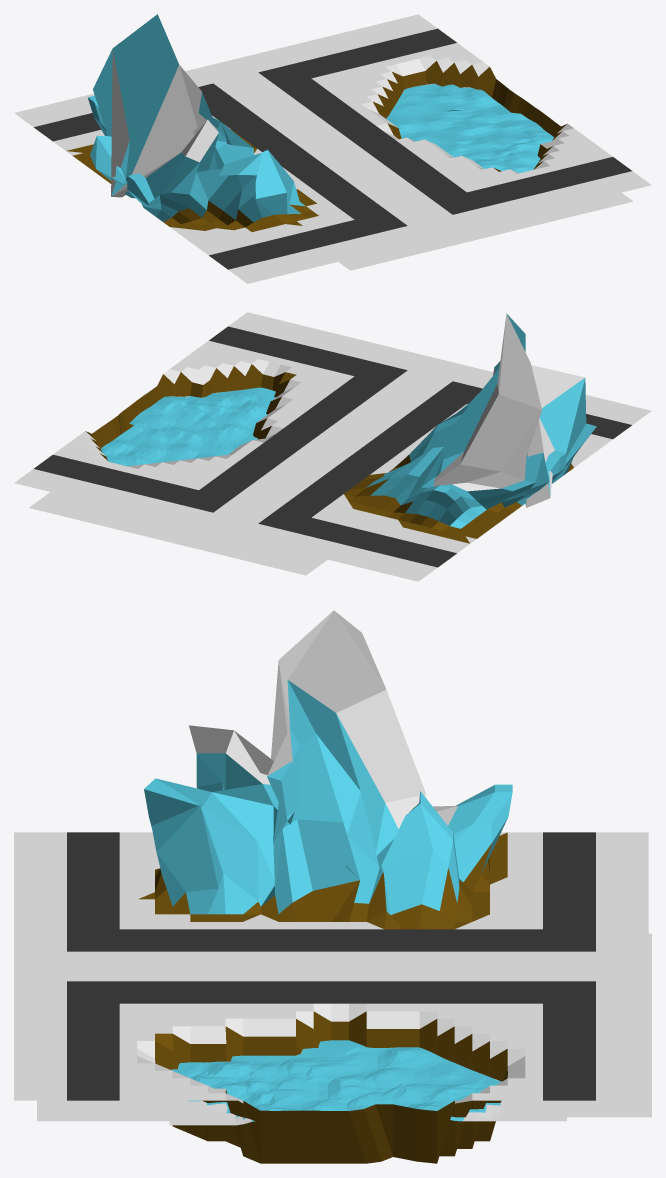
The model's file is level3.fbx.
The picture shows the model from 3 angles, top to bottom: view 1: azimuth 30°, elevation 25°; view 2: azimuth 150°, elevation 25°; view 3: azimuth 270°, elevation 25°; orthographic projection. The views are drawn at different scales.
Visible parts, largest first — view 1: Grid; view 2: Grid; view 3: Grid.
Part boxes in pixels (x1,y1,x2,y2): Grid: [14, 14, 651, 283]; Grid: [14, 312, 651, 581]; Grid: [14, 610, 651, 1163].
Bounding box in the file's own units: 3182 × 1622 × 3015.
